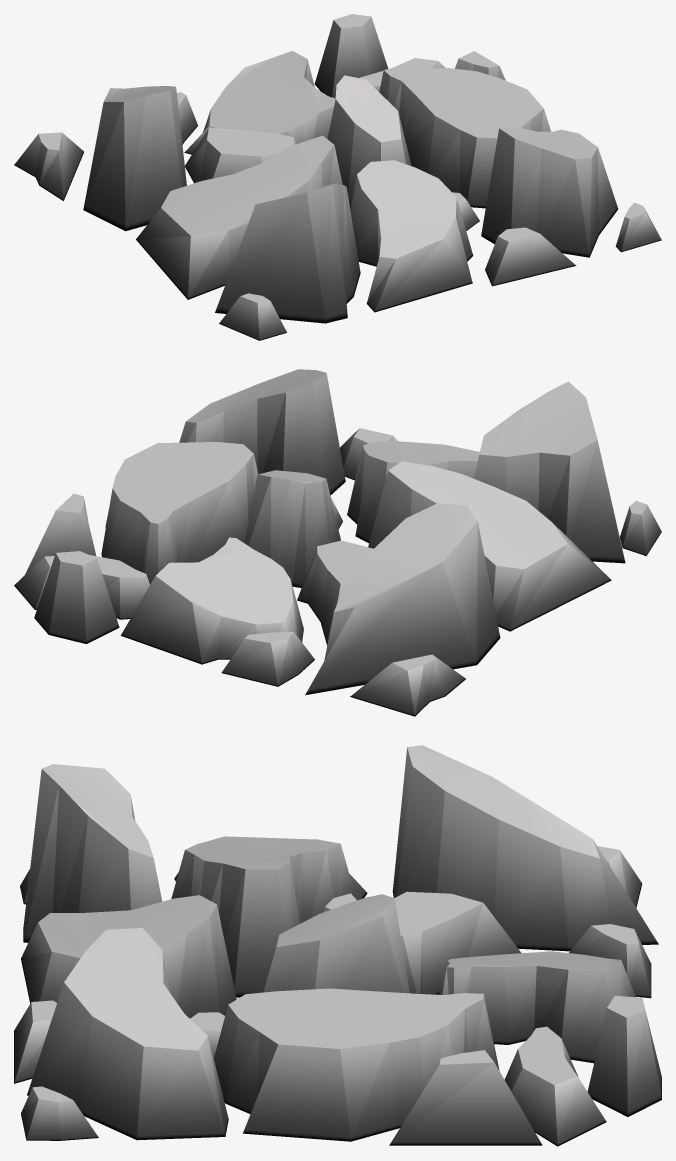
File: deco_winter_groundRocks.FBX
The picture shows the model from 3 angles, top to bottom: view 1: azimuth 30°, elevation 25°; view 2: azimuth 150°, elevation 25°; view 3: azimuth 270°, elevation 25°; orthographic projection. The views are drawn at different scales.
Visible parts, largest first — view 1: deco_winter_groundRocks; view 2: deco_winter_groundRocks; view 3: deco_winter_groundRocks.
Part boxes in pixels (x1,y1,x2,y2): deco_winter_groundRocks: (14, 14, 661, 340); deco_winter_groundRocks: (14, 369, 661, 716); deco_winter_groundRocks: (14, 745, 661, 1146).
Bounding box in the file's own units: 1.96 × 0.5735 × 2.
Materials: 1 (1 with a texture image).
